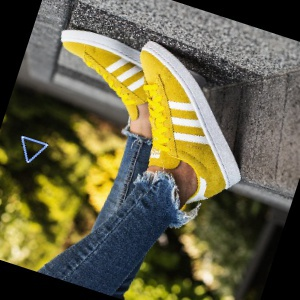triangle: (16, 133, 51, 165)
